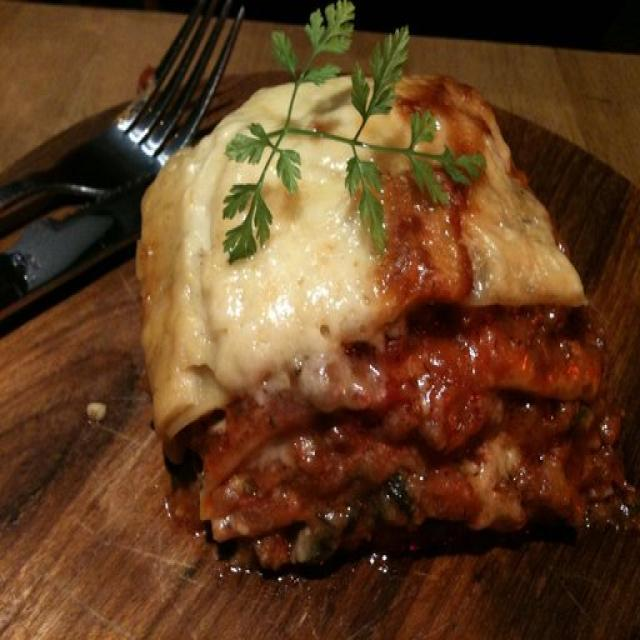Lasagna: (113, 63, 624, 581)
